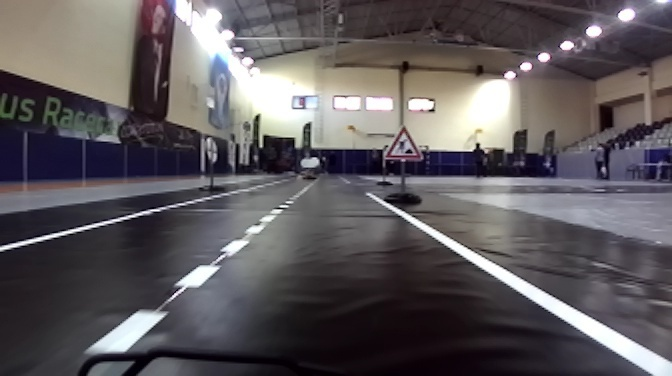yol_yapimi: (383, 121, 424, 159)
